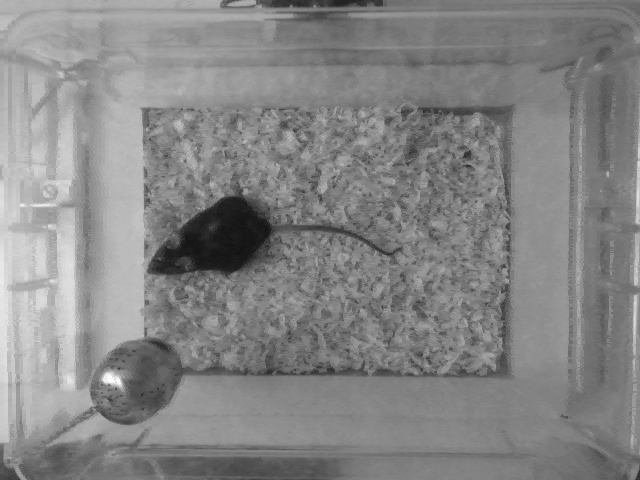mice: (145, 197, 401, 277)
